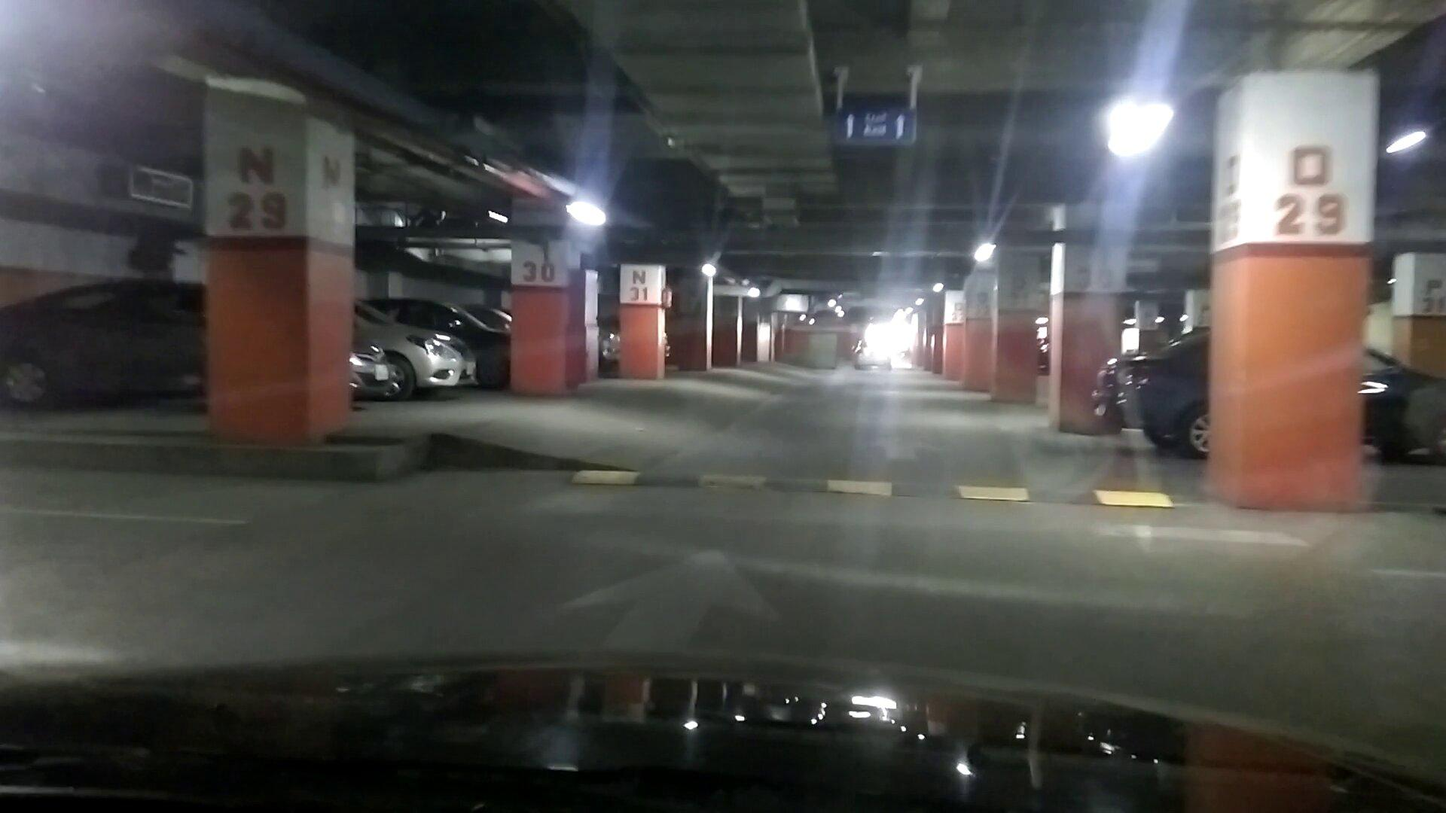Bump: (565, 459, 1201, 516)
